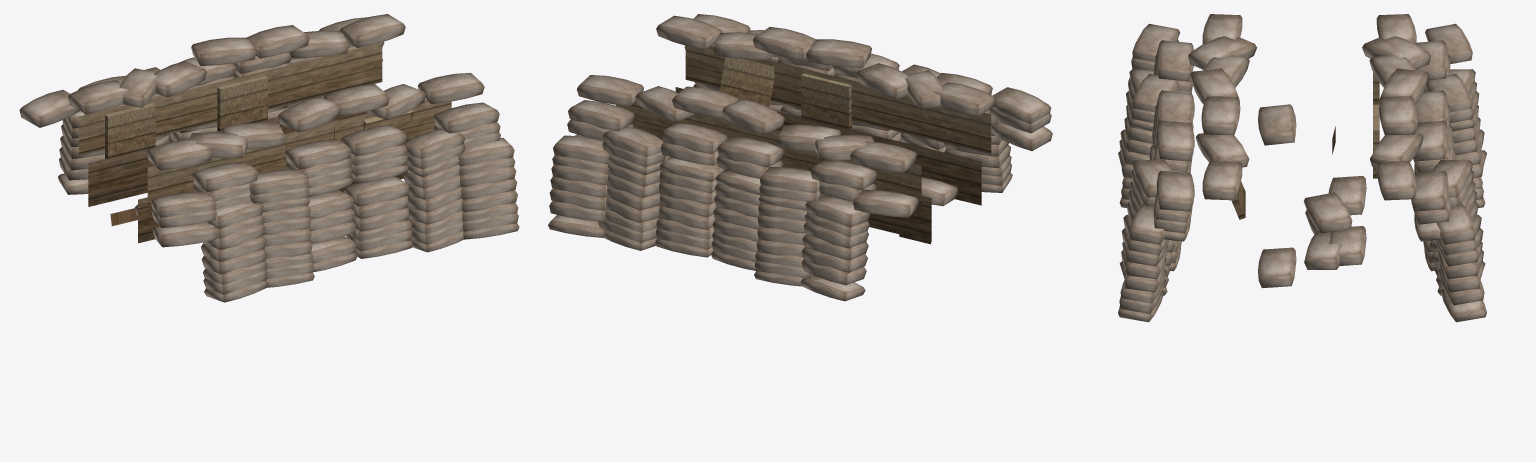
File: trin_wall_shot.dae
3 renders of one model, left to right at view 1: azimuth 30°, elevation 25°; view 2: azimuth 150°, elevation 25°; view 3: azimuth 270°, elevation 25°, orthographic. The views are drawn at different scales.
Parts seen in each view (by area): view 1: trin_wall_shot; view 2: trin_wall_shot; view 3: trin_wall_shot.
Boxes of the visible parts, left/top/right/bottom form: trin_wall_shot: left=19, top=14, right=519, bottom=302; trin_wall_shot: left=548, top=14, right=1052, bottom=301; trin_wall_shot: left=1118, top=14, right=1486, bottom=322.
Size of the model in its own units: 14.25 by 13.63 by 9.86.
